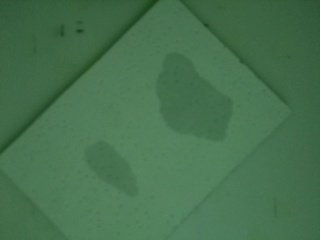Water_detected: (160, 75, 218, 137), (97, 150, 137, 189)
